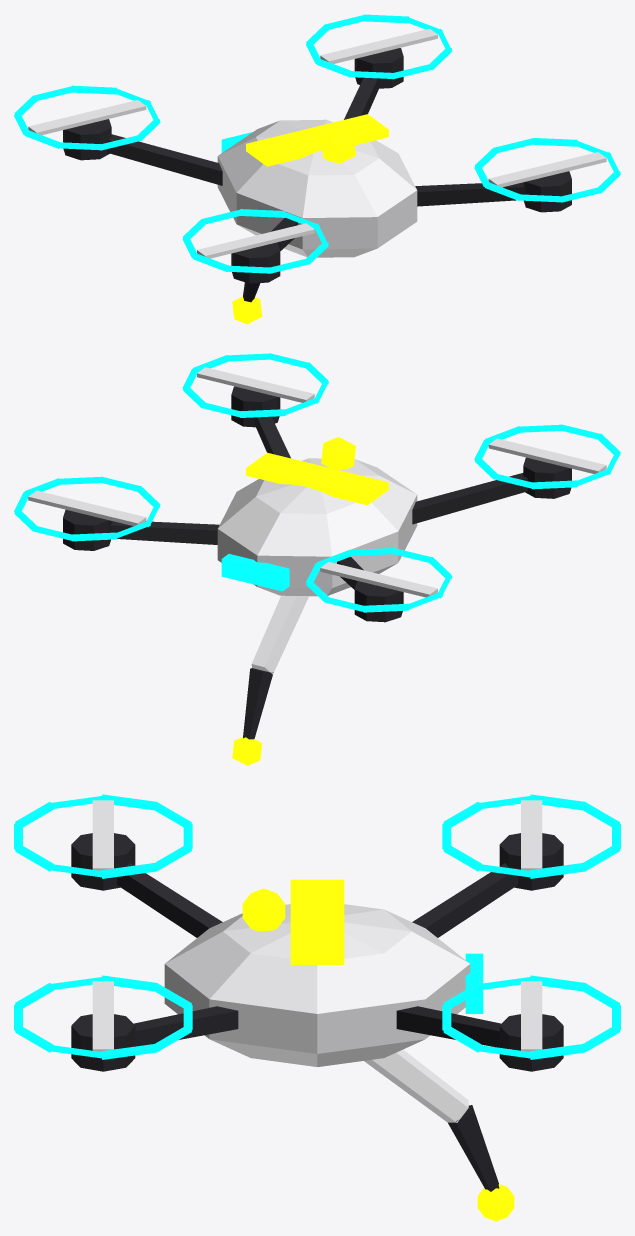
File: Build_Drone.fbx
3 views of the same model, one above another, from view 1: azimuth 30°, elevation 25°; view 2: azimuth 150°, elevation 25°; view 3: azimuth 270°, elevation 25° (orthographic). The views are drawn at different scales.
Visible parts, largest first — view 1: Drone_Body.001, Drone_Hazard, Drone_Arm2, Drone_RotorRing3, Drone_RotorRing1.001, Drone_RotorRing0, Drone_RotorRing2, Drone_Arm1, Drone_Pod3, Drone_Blade2, Drone_Blade1, Drone_Blade3 (+7 smaller); view 2: Drone_Body.001, Drone_Hazard, Drone_Arm3, Drone_RotorRing0, Drone_RotorRing1.001, Drone_RotorRing3, Drone_RotorRing2, Drone_WelderUpper, Drone_Arm0, Drone_Eye.001, Drone_Blade0, Drone_Blade2 (+10 smaller); view 3: Drone_Body.001, Drone_Hazard, Drone_RotorRing0, Drone_RotorRing2, Drone_RotorRing3, Drone_RotorRing1.001, Drone_WelderUpper, Drone_Arm2, Drone_Arm3, Drone_Arm0, Drone_Arm1, Drone_Pod0 (+11 smaller).
Boxes of the visible parts, <box> form: Drone_Body.001: <box>217,119,417,257</box>; Drone_Hazard: <box>246,114,388,166</box>; Drone_Arm2: <box>107,134,222,185</box>; Drone_RotorRing3: <box>182,209,328,273</box>; Drone_RotorRing1.001: <box>474,138,620,202</box>; Drone_RotorRing0: <box>306,14,451,79</box>; Drone_RotorRing2: <box>14,85,160,150</box>; Drone_Arm1: <box>415,182,524,206</box>; Drone_Pod3: <box>231,242,280,283</box>; Drone_Blade2: <box>28,100,146,135</box>; Drone_Blade1: <box>488,152,606,187</box>; Drone_Blade3: <box>197,223,314,258</box>; Drone_Body.001: <box>217,458,417,596</box>; Drone_Hazard: <box>246,452,388,505</box>; Drone_Arm3: <box>412,473,527,524</box>; Drone_RotorRing0: <box>14,476,160,541</box>; Drone_RotorRing1.001: <box>182,353,328,417</box>; Drone_RotorRing3: <box>474,424,620,489</box>; Drone_RotorRing2: <box>306,548,452,612</box>; Drone_WelderUpper: <box>251,595,308,674</box>; Drone_Arm0: <box>110,521,219,544</box>; Drone_Eye.001: <box>221,554,289,591</box>; Drone_Blade0: <box>28,490,146,526</box>; Drone_Blade2: <box>320,562,437,597</box>; Drone_Body.001: <box>164,904,470,1066</box>; Drone_Hazard: <box>290,879,344,964</box>; Drone_RotorRing0: <box>442,975,620,1059</box>; Drone_RotorRing2: <box>442,794,620,878</box>; Drone_RotorRing3: <box>14,794,192,878</box>; Drone_RotorRing1.001: <box>14,975,192,1059</box>; Drone_WelderUpper: <box>364,1049,468,1122</box>; Drone_Arm2: <box>412,863,517,937</box>; Drone_Arm3: <box>117,863,222,937</box>; Drone_Arm0: <box>396,1006,500,1047</box>; Drone_Arm1: <box>134,1006,238,1046</box>; Drone_Pod0: <box>499,1014,563,1071</box>.
Bounding box in the file's own units: 0.345 × 0.206 × 0.3401.
